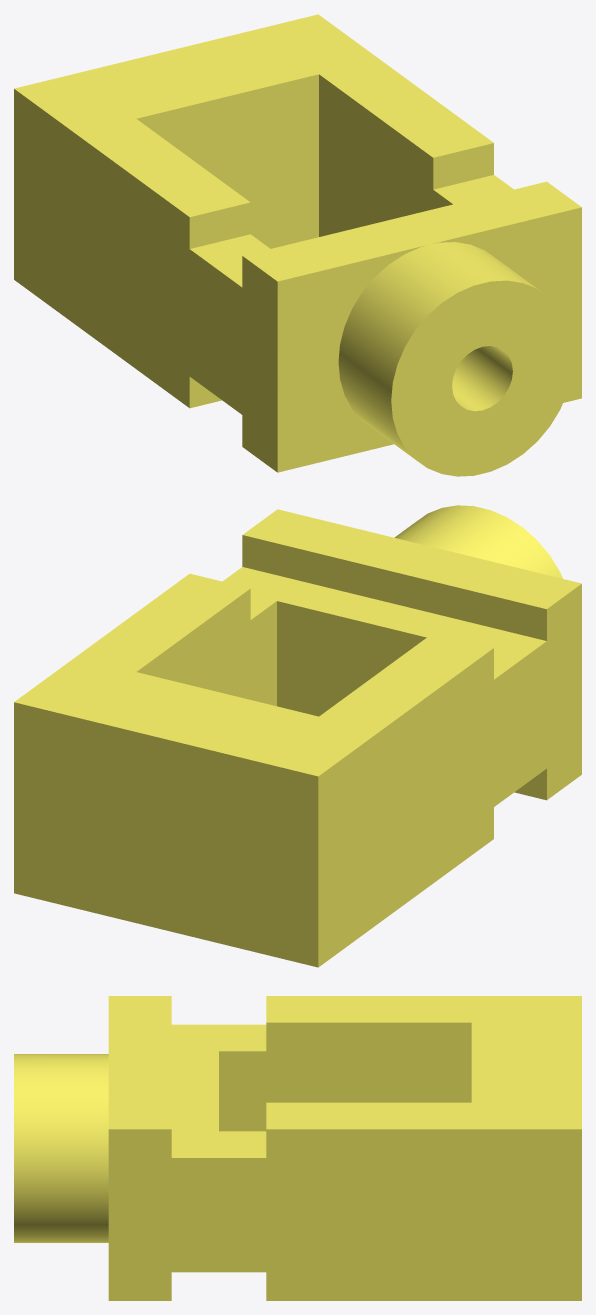
The picture shows the model from 3 angles, top to bottom: view 1: azimuth 30°, elevation 25°; view 2: azimuth 150°, elevation 25°; view 3: azimuth 270°, elevation 25°; orthographic projection. The views are drawn at different scales.
Parts seen in each view (by area): view 1: 620; view 2: 620; view 3: 620.
Part boxes in pixels (<box>): 620: <box>14,14,581,476</box>; 620: <box>14,505,581,967</box>; 620: <box>14,996,581,1300</box>.
Size of the model in its own units: 0.06 by 0.036 by 0.108.
